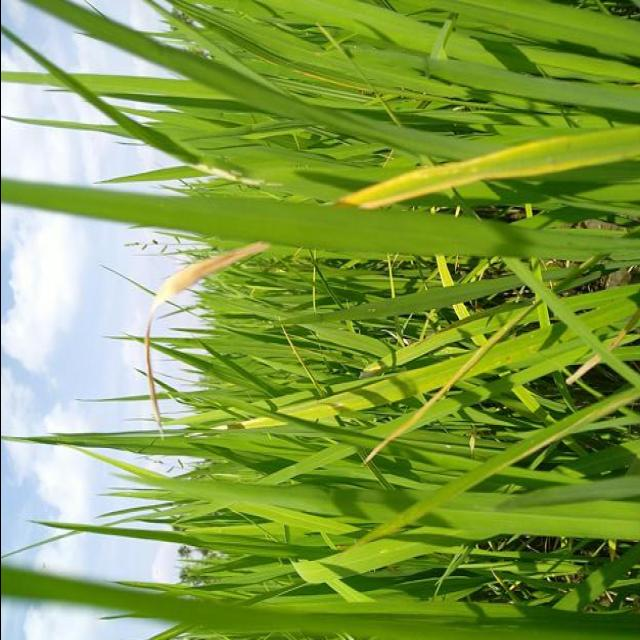Leaf Blight: (334, 126, 640, 210), (141, 242, 271, 428)
